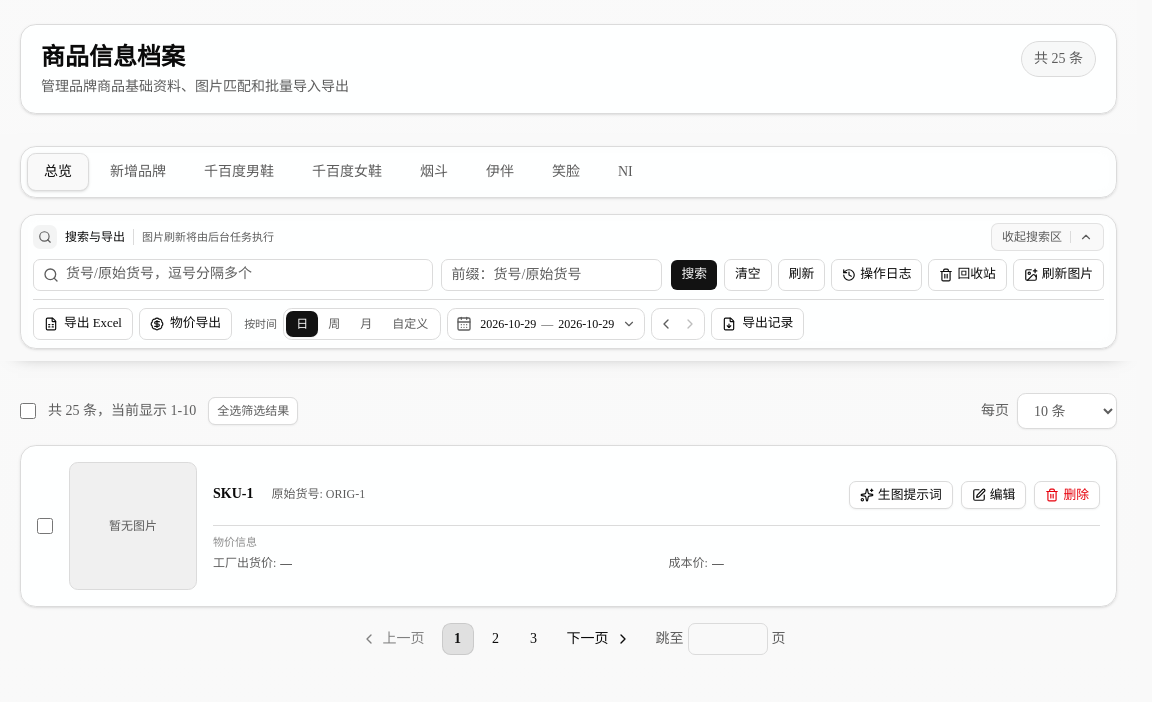
Test case: changing brand or year clears cross-page selection
The width and height of the screenshot is (1152, 702).
Expected: the checkbox named "选择当前页全部商品" is enabled, [20, 403, 36, 419]
Step 1. Click the checkbox named "选择商品 SKU-1" → (45, 526), box [37, 518, 53, 534]
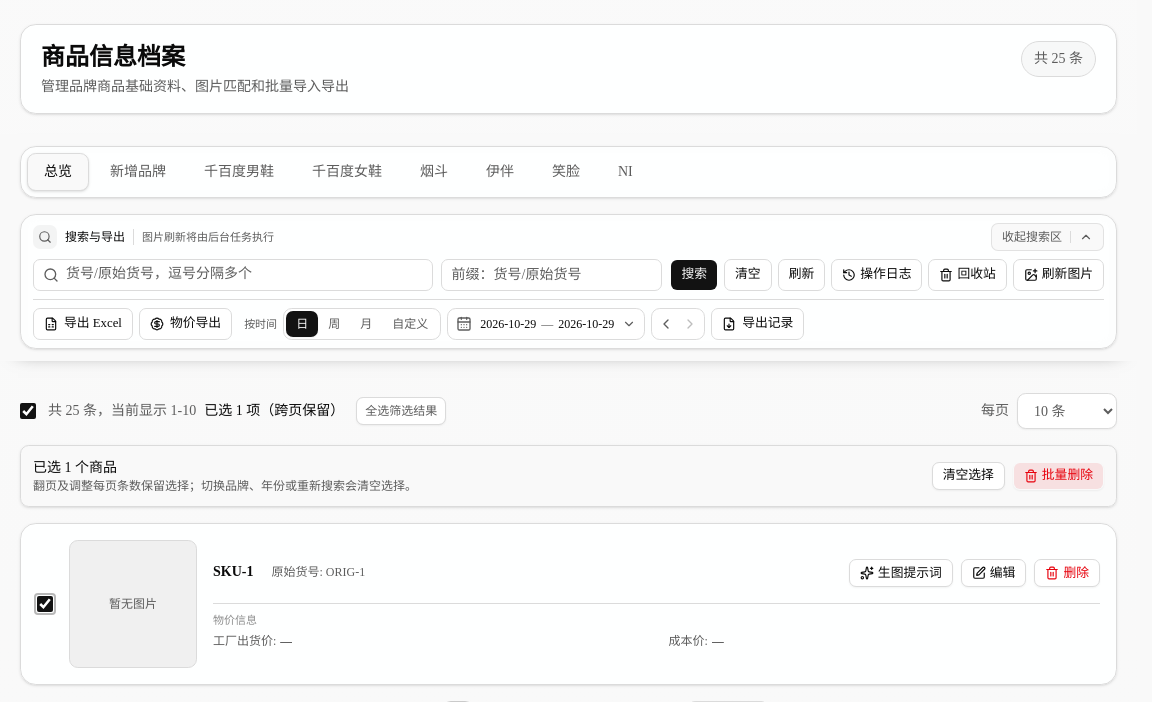
Step 2. Click the tab "新增品牌" → (138, 172), box [93, 153, 183, 191]
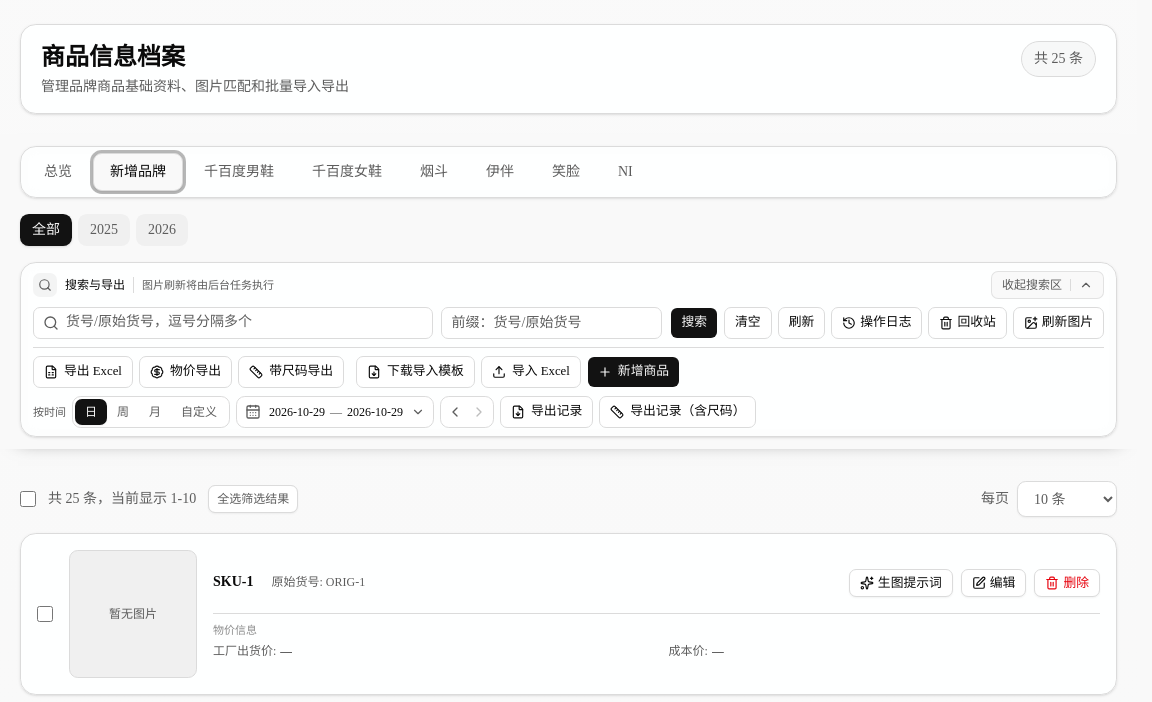
Expected: the button "批量删除" is gone
Step 3. Click the checkbox named "选择商品 SKU-1" → (45, 614), box [37, 606, 53, 622]
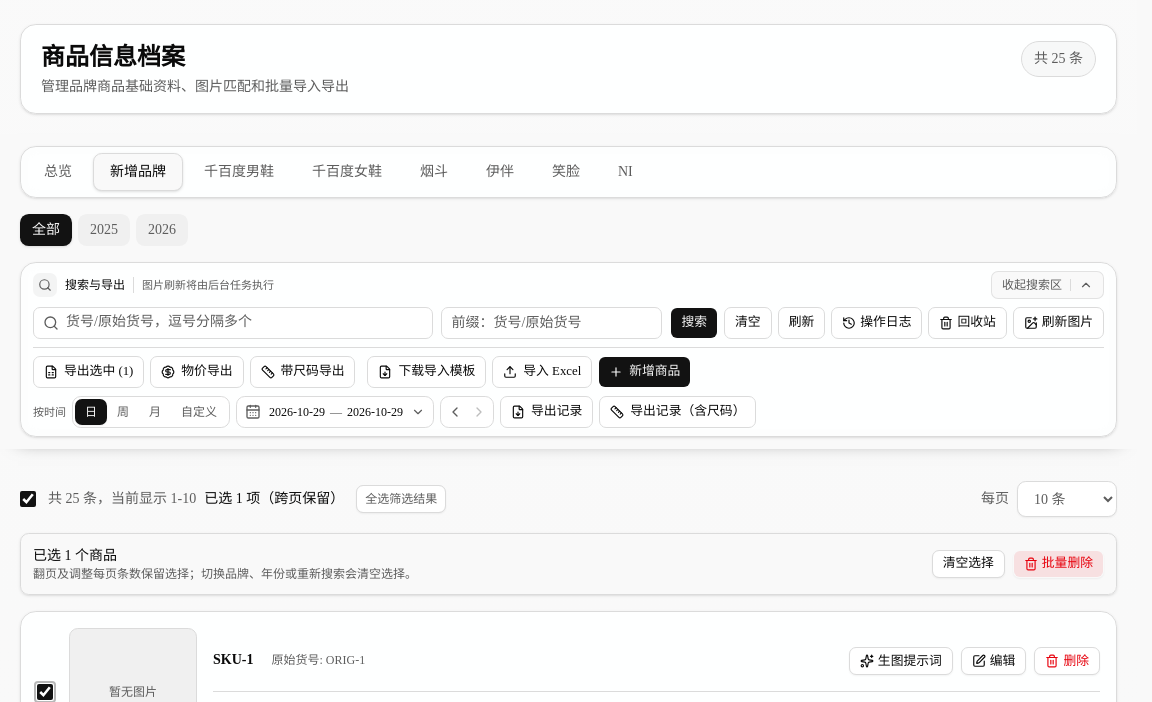
Step 4. Click the button "2025" → (104, 230), box [78, 214, 130, 246]
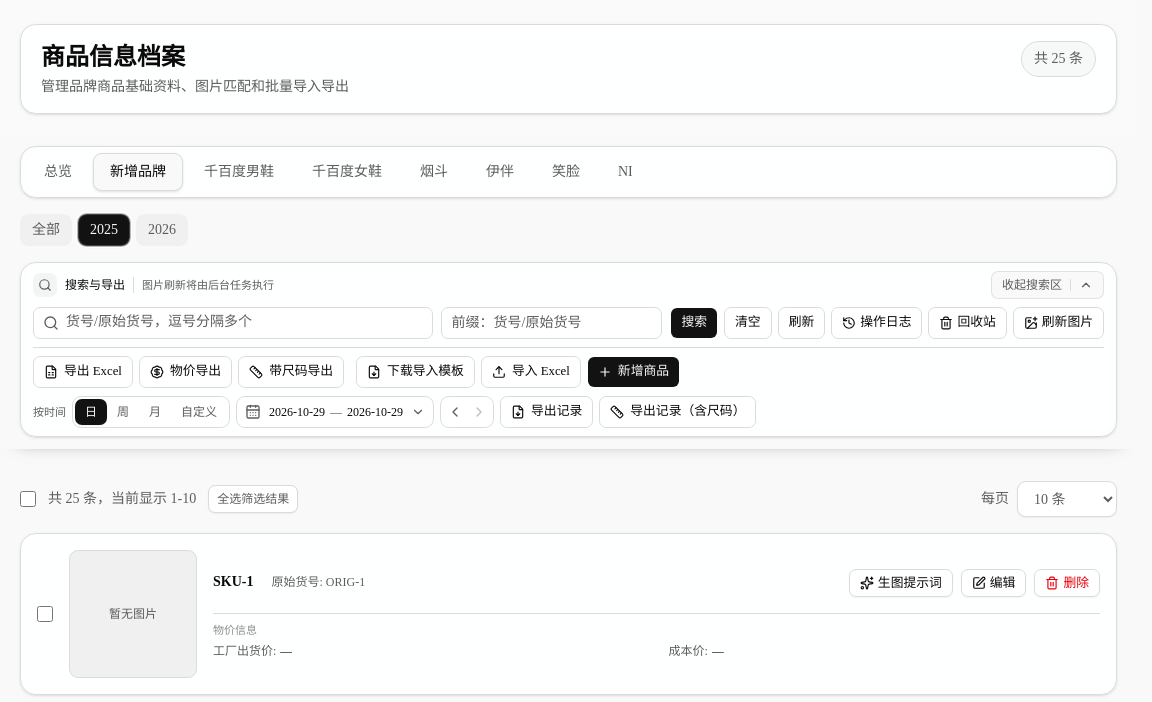
Expected: the button "批量删除" is gone
